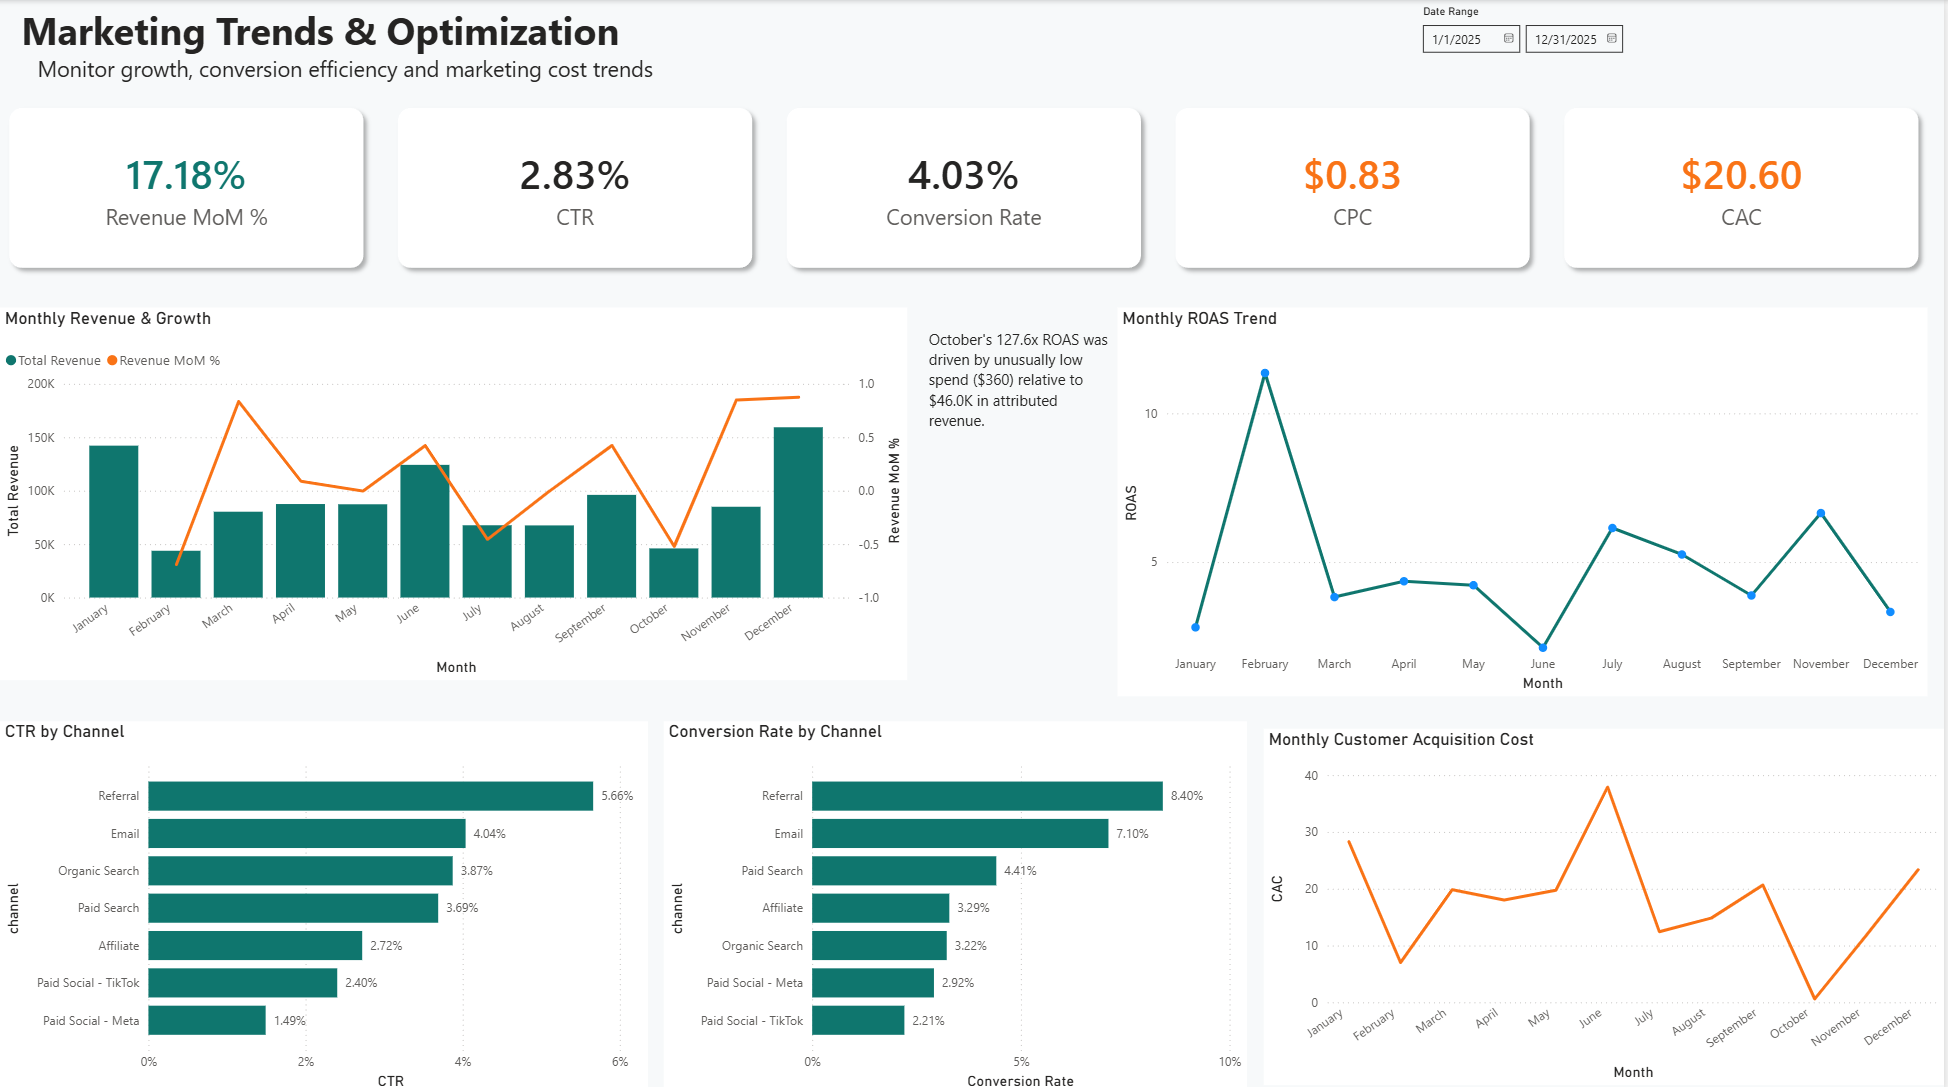

The dashboard page shown, as its layout file describes it:
{"tool":"powerbi","page":{"name":"Marketing Trends & Optimization","canvas":[1920,1080],"ordinal":2},"visuals":[{"type":"textbox","box":[16,0,624,80],"z":0},{"type":"shape","box":[-0.2,97.8,368,176],"z":0,"group":"g3"},{"type":"shape","box":[383.8,97.8,368,176],"z":0,"group":"g2"},{"type":"shape","box":[767.8,97.8,368,176],"z":0,"group":"g1"},{"type":"shape","box":[1151.8,97.8,368,176],"z":0,"group":"g4"},{"type":"shape","box":[1535.8,97.8,368,176],"z":0,"group":"g5"},{"type":"textbox","box":[32,48,656,64],"z":1000},{"type":"cardVisual","fields":{"Data":["Measure.Revenue MoM %"]},"box":[31.8,113.8,304,144],"z":1000,"group":"g3"},{"type":"cardVisual","fields":{"Data":["Measure.CTR"]},"box":[415.8,113.8,304,144],"z":1000,"group":"g2"},{"type":"cardVisual","fields":{"Data":["Measure.Conversion Rate"]},"box":[799.8,113.8,304,144],"z":1000,"group":"g1"},{"type":"cardVisual","fields":{"Data":["Measure.CPC"]},"box":[1183.8,113.8,304,144],"z":1000,"group":"g4"},{"type":"cardVisual","fields":{"Data":["Measure.CAC"]},"box":[1567.8,113.8,304,144],"z":1000,"group":"g5"},{"type":"slicer","title":"Date Range","fields":{"Values":["Date_Dimension.date"]},"box":[1392,0,512,80],"z":2000},{"type":"group","id":"g1","title":"Group 1","box":[767.8,97.8,368,176],"z":3000},{"type":"group","id":"g2","title":"Group 1","box":[383.8,97.8,368,176],"z":4000},{"type":"group","id":"g3","title":"Group 1","box":[-0.2,97.8,368,176],"z":5000},{"type":"group","id":"g4","title":"Group 1","box":[1151.8,97.8,368,176],"z":6000},{"type":"group","id":"g5","title":"Group 1","box":[1535.8,97.8,368,176],"z":7000},{"type":"lineClusteredColumnComboChart","title":"Monthly Revenue & Growth","fields":{"Category":["Date_Dimension.date.Variation.Date Hierarchy.Month"],"Y":["Measure.Total Revenue"],"Y2":["Measure.Revenue MoM %"]},"box":[0,304,896,368],"z":8000},{"type":"lineChart","title":"Monthly ROAS Trend","fields":{"Category":["Date_Dimension.date.Variation.Date Hierarchy.Month"],"Y":["Measure.ROAS"]},"box":[1104,304,800,384],"z":9000},{"type":"clusteredBarChart","title":"CTR by Channel","fields":{"Category":["Campaigns.channel"],"Y":["Measure.CTR"]},"box":[0,712,640,368],"z":10000},{"type":"clusteredBarChart","title":"Conversion Rate by Channel","fields":{"Category":["Campaigns.channel"],"Y":["Measure.Conversion Rate"]},"box":[656,712,576,368],"z":11000},{"type":"lineChart","title":"Monthly Customer Acquisition Cost","fields":{"Category":["Date_Dimension.date.Variation.Date Hierarchy.Month"],"Y":["Measure.CAC"]},"box":[1248,720,672,352],"z":12000},{"type":"textbox","box":[912,320,192,128],"z":12001}]}

Visuals, with their boxes in screenshot pixels (x1, y1, x2, y2), scaled from the page's 1920x1080 canvas onto the 1948x1087 screenshot:
textbox: crop(16, 0, 649, 81)
shape: crop(0, 98, 373, 276)
shape: crop(389, 98, 763, 276)
shape: crop(779, 98, 1152, 276)
shape: crop(1169, 98, 1542, 276)
shape: crop(1558, 98, 1932, 276)
textbox: crop(32, 48, 698, 113)
cardVisual - Measure.Revenue MoM %: crop(32, 115, 341, 259)
cardVisual - Measure.CTR: crop(422, 115, 730, 259)
cardVisual - Measure.Conversion Rate: crop(811, 115, 1120, 259)
cardVisual - Measure.CPC: crop(1201, 115, 1509, 259)
cardVisual - Measure.CAC: crop(1591, 115, 1899, 259)
"Date Range" slicer: crop(1412, 0, 1932, 81)
"Group 1" group: crop(779, 98, 1152, 276)
"Group 1" group: crop(389, 98, 763, 276)
"Group 1" group: crop(0, 98, 373, 276)
"Group 1" group: crop(1169, 98, 1542, 276)
"Group 1" group: crop(1558, 98, 1932, 276)
"Monthly Revenue & Growth" lineClusteredColumnComboChart: crop(0, 306, 909, 676)
"Monthly ROAS Trend" lineChart: crop(1120, 306, 1932, 692)
"CTR by Channel" clusteredBarChart: crop(0, 717, 649, 1086)
"Conversion Rate by Channel" clusteredBarChart: crop(666, 717, 1250, 1086)
"Monthly Customer Acquisition Cost" lineChart: crop(1266, 725, 1947, 1079)
textbox: crop(925, 322, 1120, 451)
